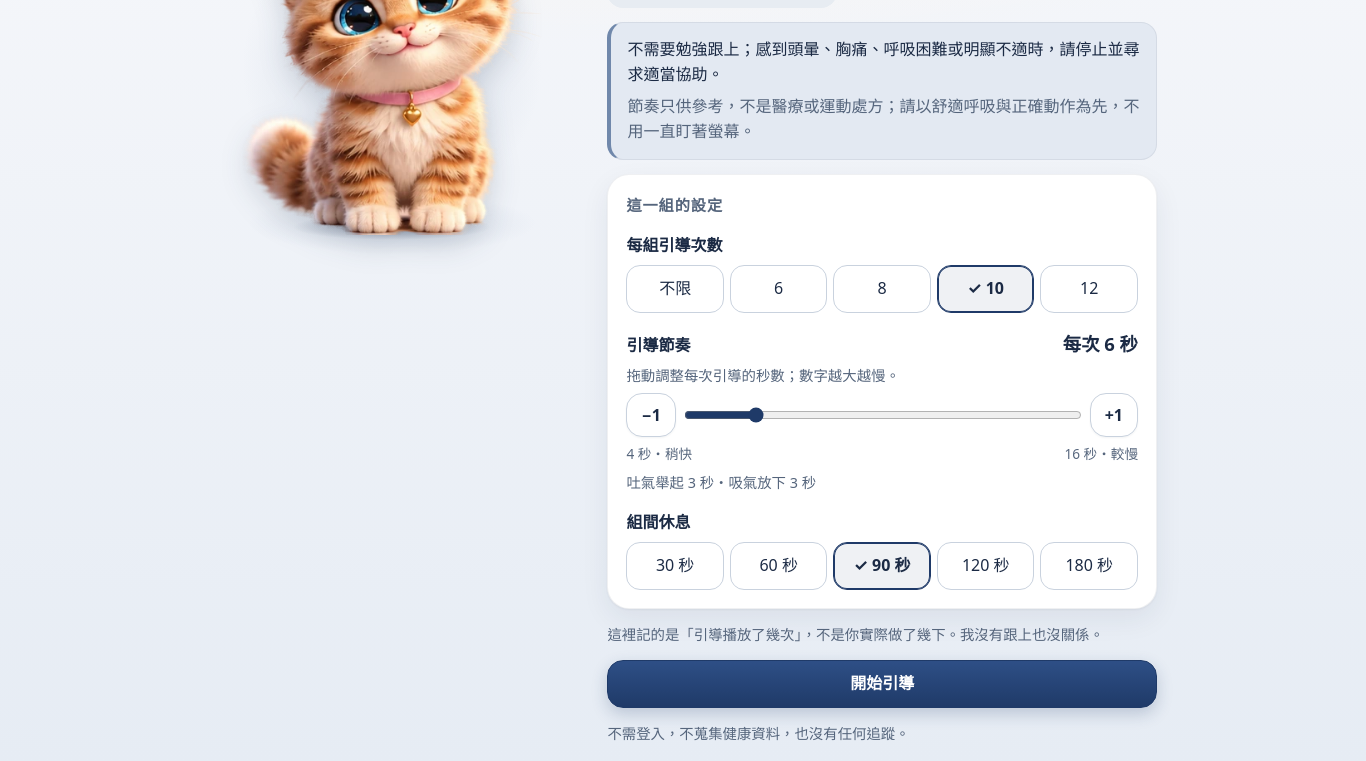
萌寵能量站 UI › 完整循環才加1，半循環不加；換畫面焦點移到標題
(page scrolled)
Click the button "開始引導": (882, 684) [607,660,1157,708]
(page scrolled)
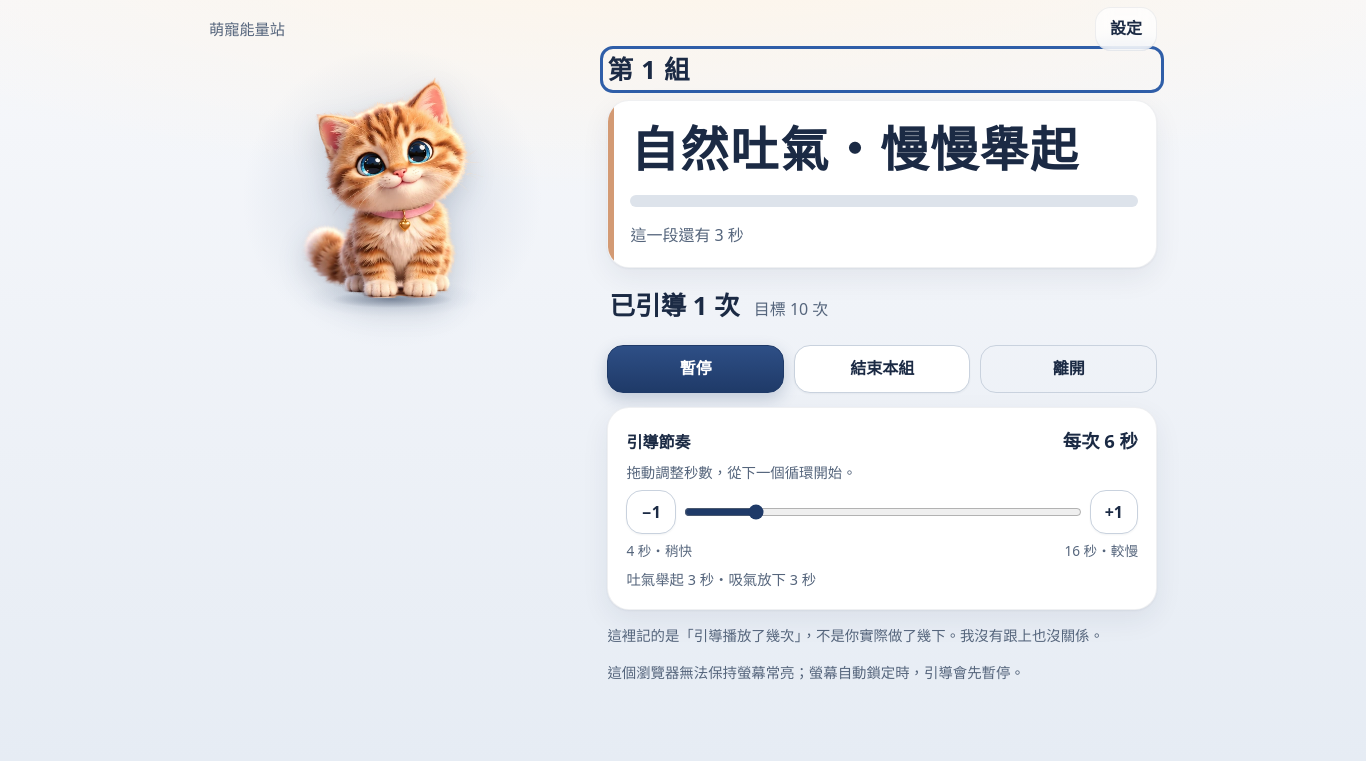
Check: the heading reads "第 1 組", box [607,52,690,87]
Check: the text "自然吸氣・慢慢放下" is shown, box [630,119,1138,179]
Check: the text "已引導 1 次" is shown, box [609,286,740,327]
